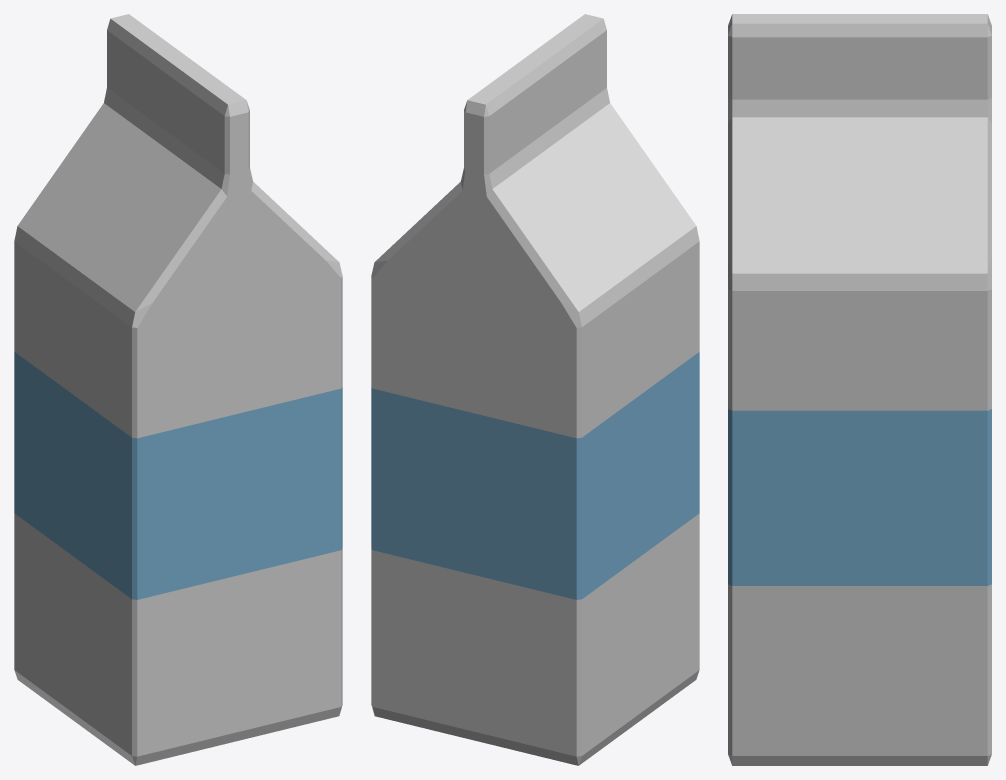
Rendered from milk_box_3_Partyassets.fbx.
3 renders of one model, left to right at view 1: azimuth 30°, elevation 25°; view 2: azimuth 150°, elevation 25°; view 3: azimuth 270°, elevation 25°, orthographic. The views are drawn at different scales.
Visible parts, largest first — view 1: milk_box_3_Partyassets; view 2: milk_box_3_Partyassets; view 3: milk_box_3_Partyassets.
Boxes of the visible parts, <box> form: milk_box_3_Partyassets: <box>14,14,342,765</box>; milk_box_3_Partyassets: <box>371,14,699,765</box>; milk_box_3_Partyassets: <box>728,14,991,765</box>.
Size of the model in its own units: 9.52 by 27.58 by 9.52.
